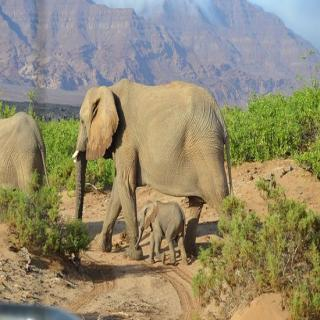Elephant: (70, 73, 245, 264), (134, 198, 190, 270)
